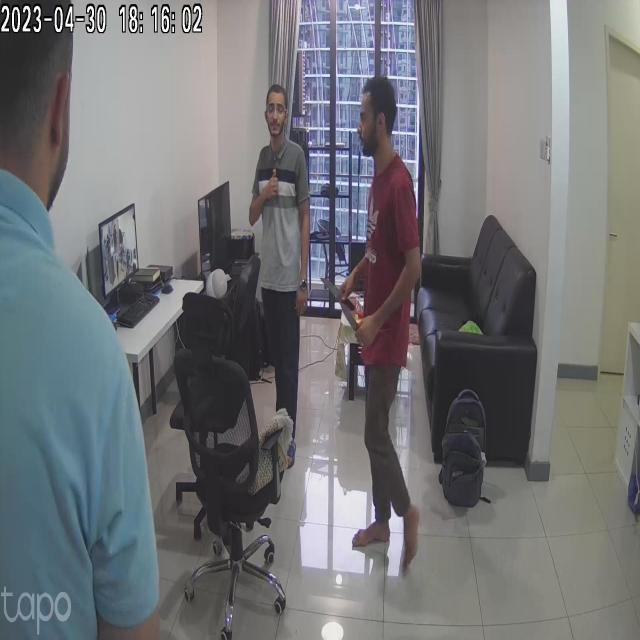Knife: (316, 268, 365, 326)
